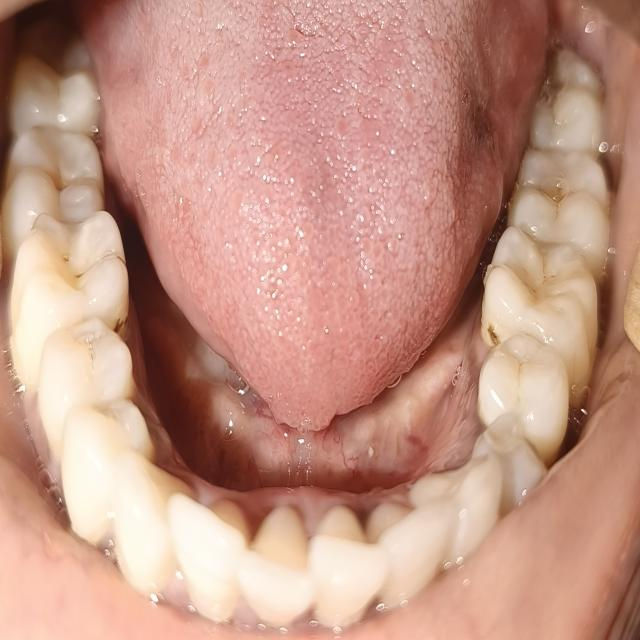processing_area: (75, 0, 551, 434)
